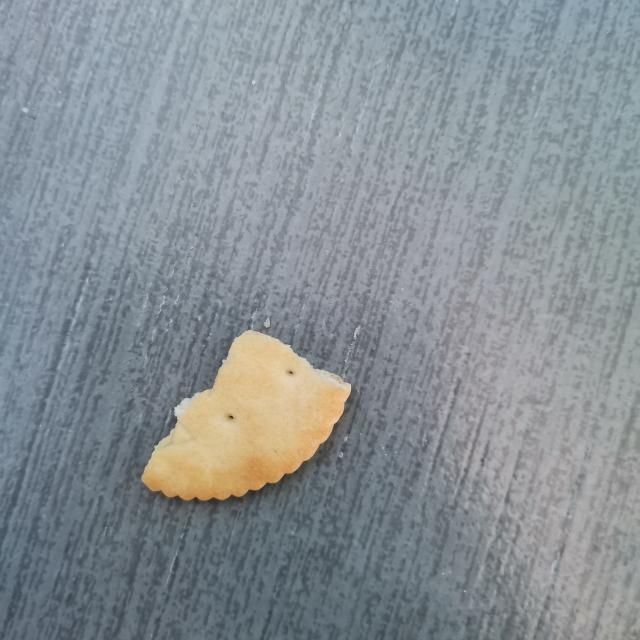Broken: (140, 328, 352, 502)
